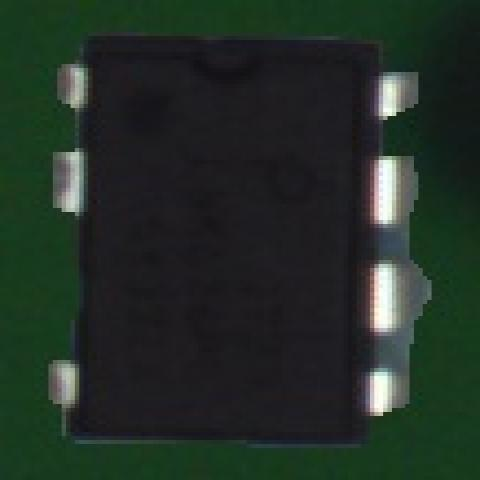IC: (48, 23, 415, 455)
